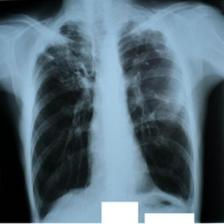tuberculosis: (24, 10, 200, 217)
